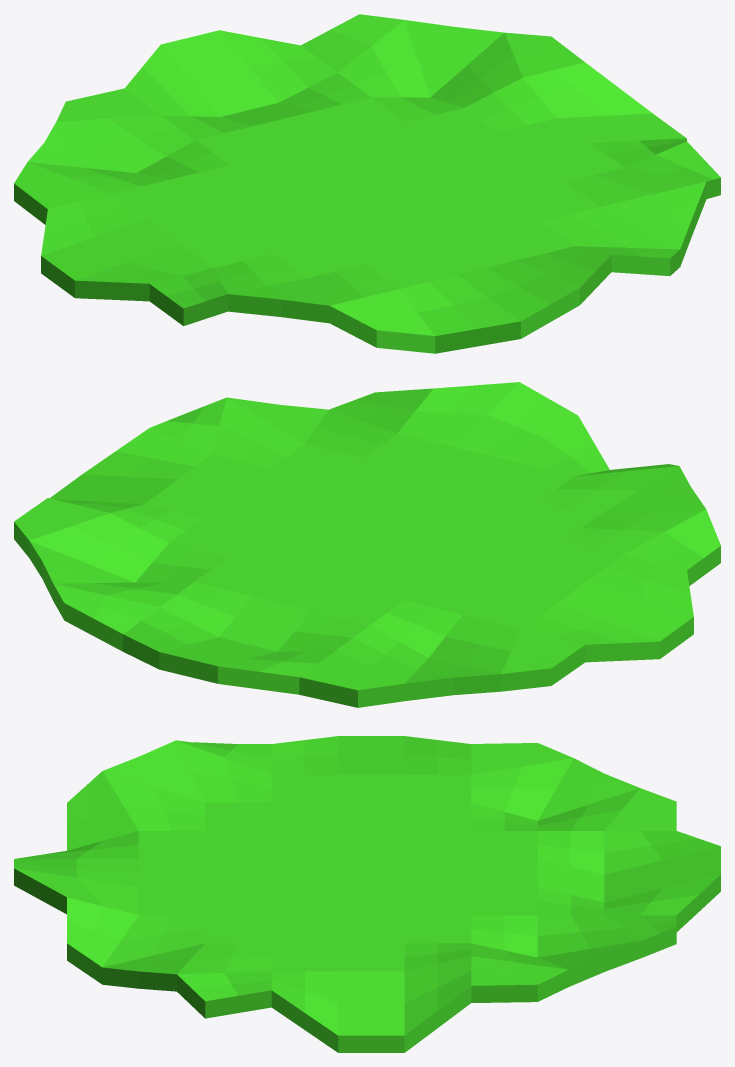
Rendered from salade.fbx.
3 renders of one model, top to bottom at view 1: azimuth 30°, elevation 25°; view 2: azimuth 150°, elevation 25°; view 3: azimuth 270°, elevation 25°, orthographic.
Visible parts, largest first — view 1: Cube; view 2: Cube; view 3: Cube.
Boxes of the visible parts, x1,y1,x2,y2 form: Cube: (14, 14, 720, 353); Cube: (14, 382, 720, 707); Cube: (14, 736, 720, 1052).
Bounding box in the file's own units: 298 × 26.54 × 304.
